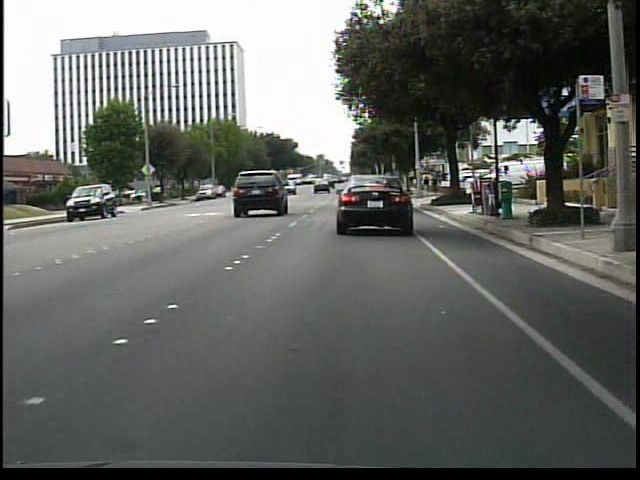person: (423, 173, 433, 196), (431, 174, 440, 194)
